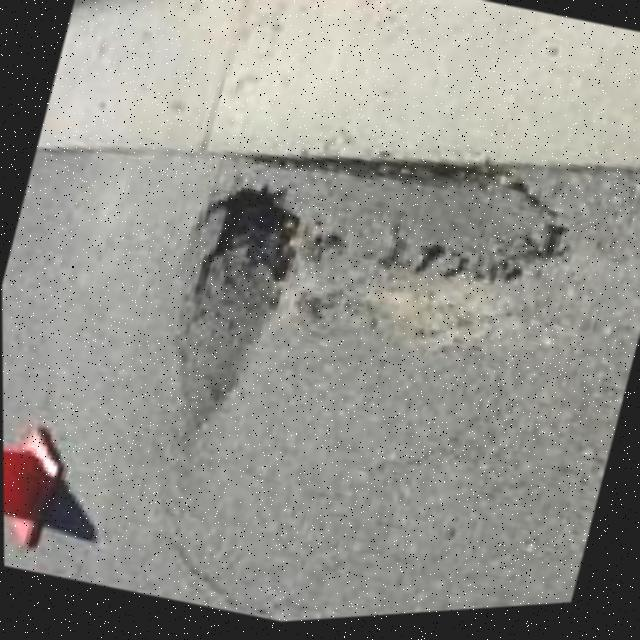pothole: (150, 172, 313, 446)
